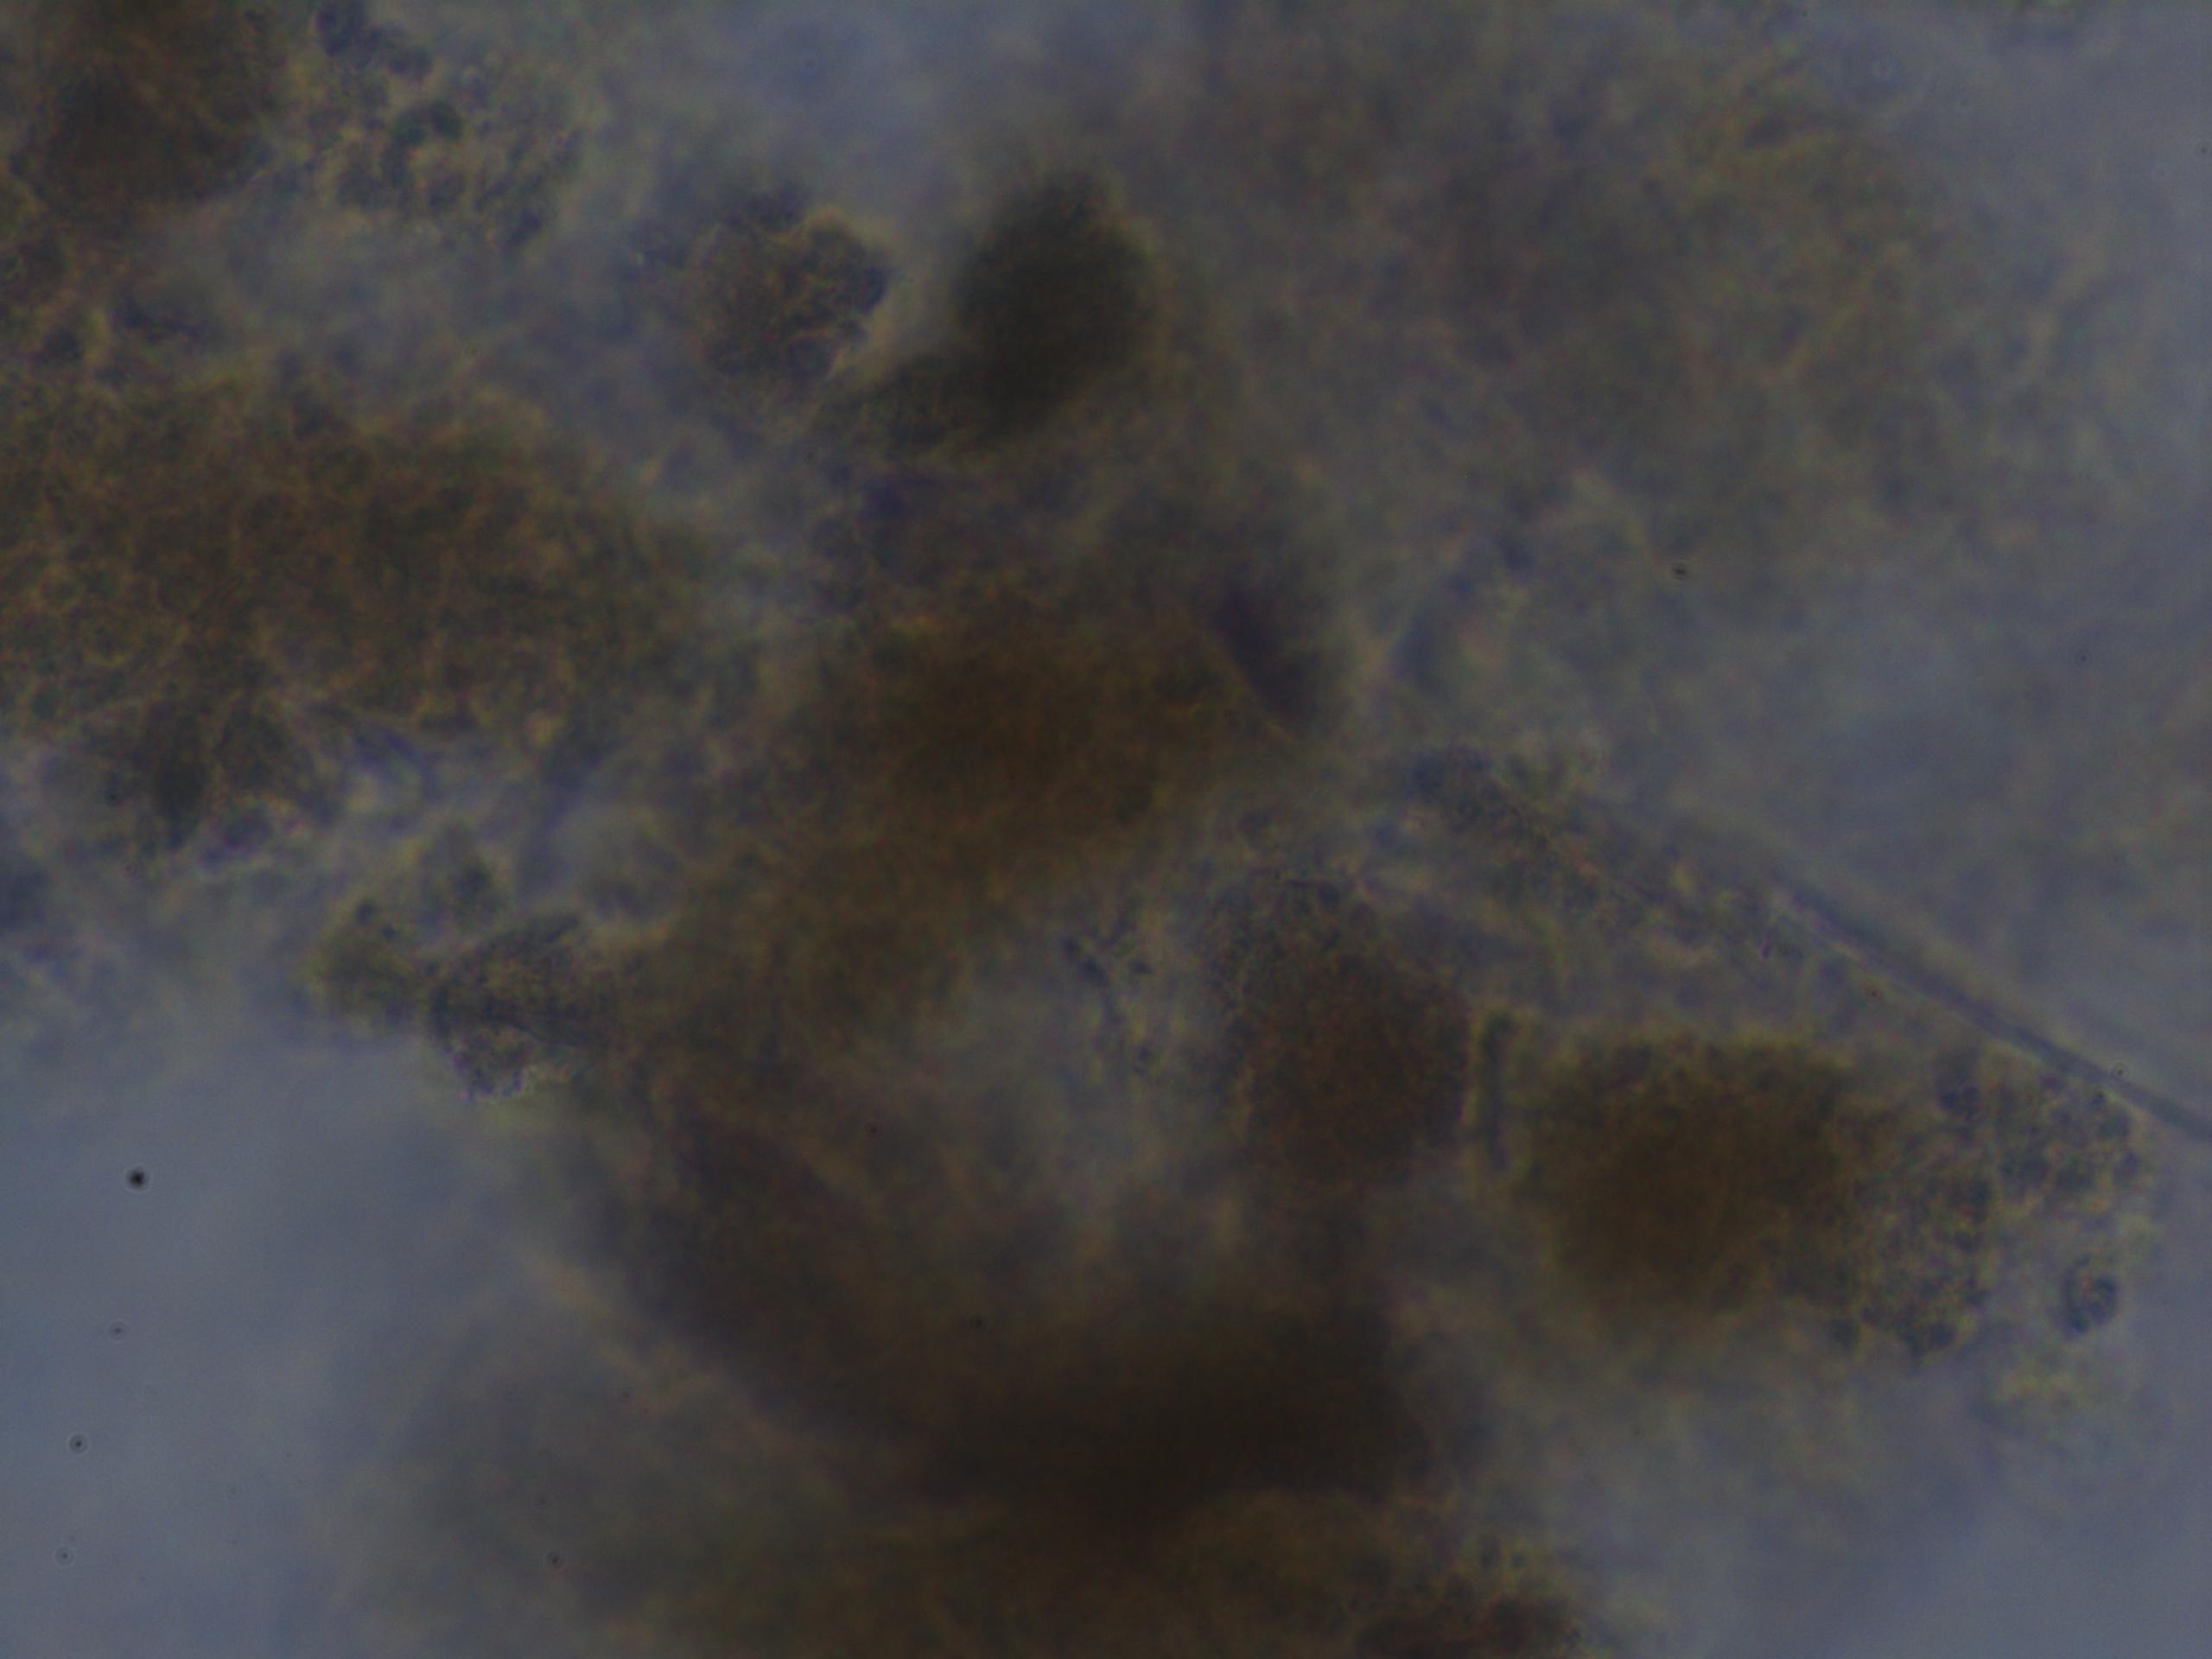filament: (1425, 721, 2212, 1188)
